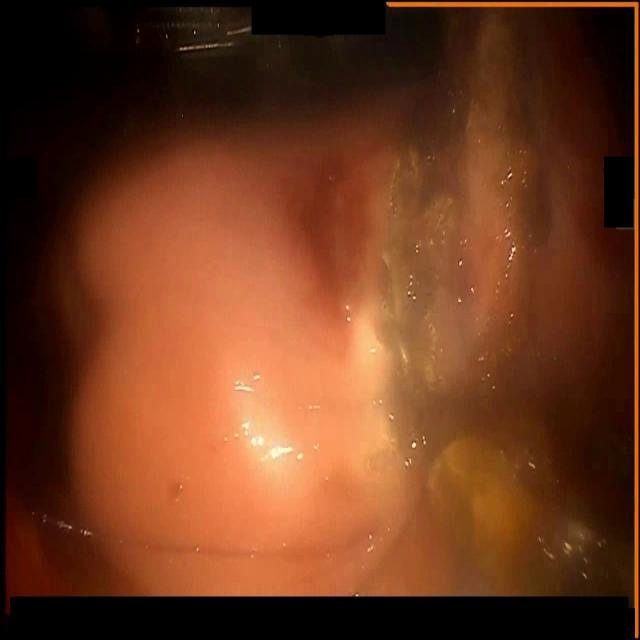surgical-area: (0, 0, 635, 615)
surgical-tool: (424, 412, 640, 599), (131, 0, 252, 54)
